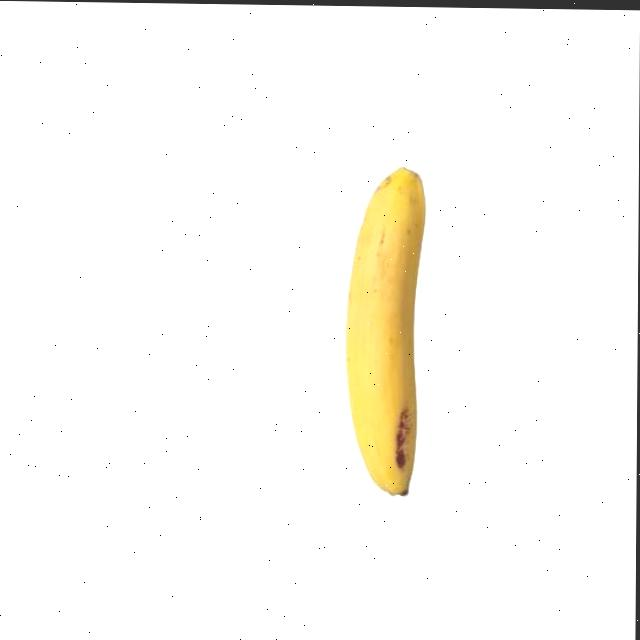banana: (340, 162, 429, 496)
